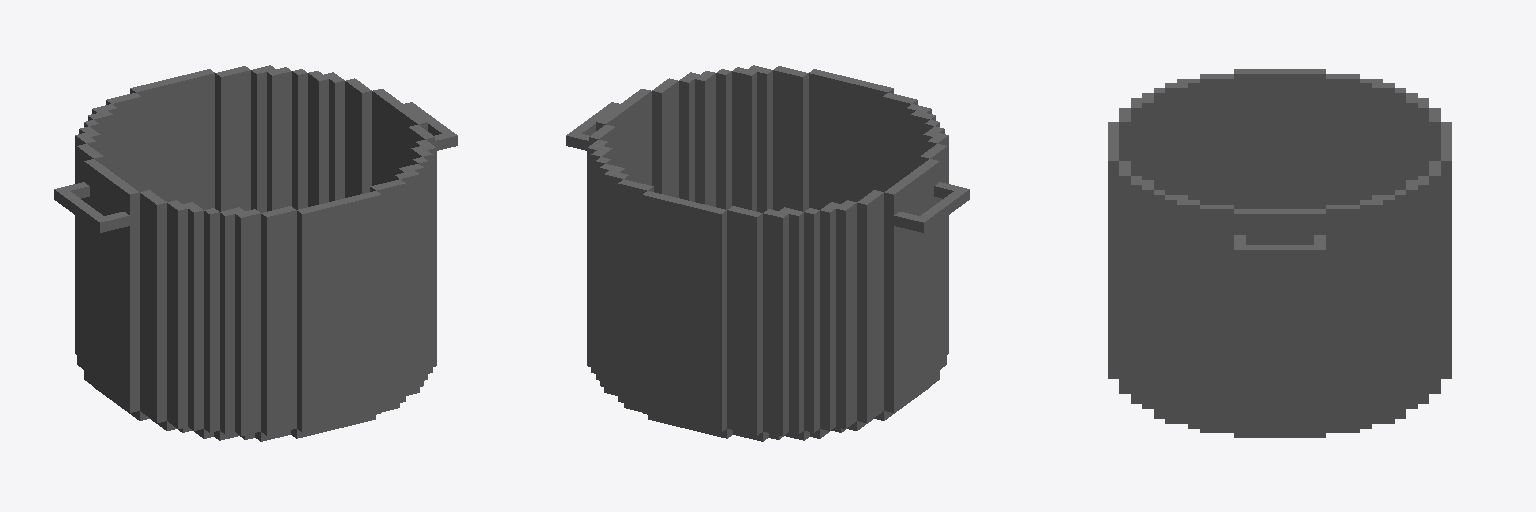
3 renders of one model, left to right at view 1: azimuth 30°, elevation 25°; view 2: azimuth 150°, elevation 25°; view 3: azimuth 270°, elevation 25°, orthographic.
Visible parts, largest first — view 1: object 1; view 2: object 1; view 3: object 1.
Boxes of the visible parts, x1=… form: object 1: x1=54, y1=65, x2=457, y2=441; object 1: x1=566, y1=65, x2=969, y2=441; object 1: x1=1108, y1=69, x2=1451, y2=437.
Size of the model in its own units: 3.6 by 2.2 by 3.
Materials: 1 (1 with a texture image).